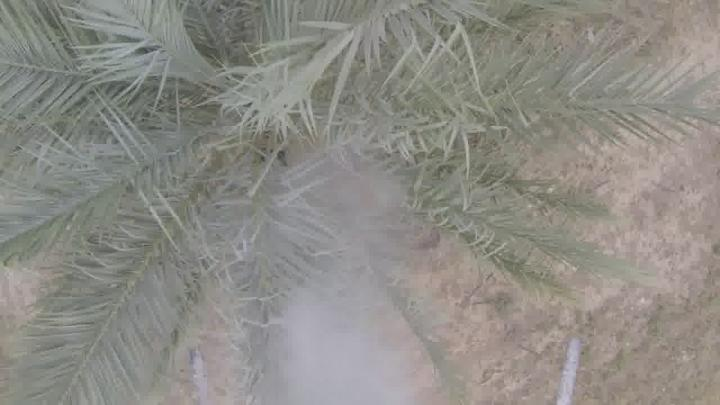Date-Palm-Crown: (43, 0, 457, 342)
